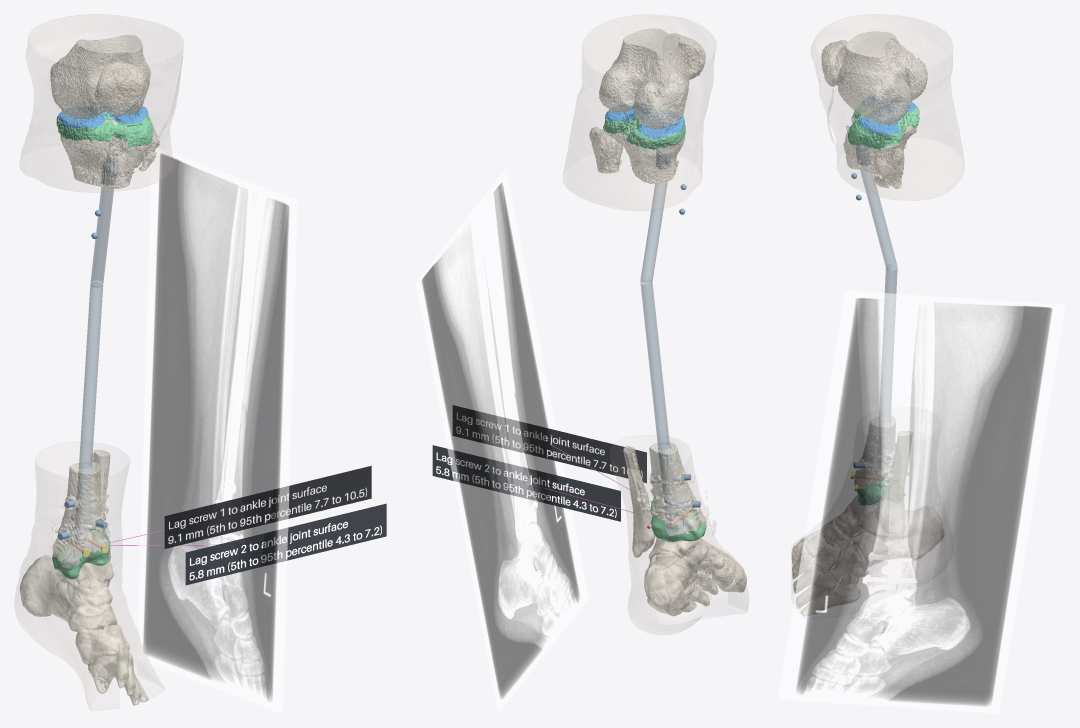
Rendered from 2022-04-22_084803_lat.glb.
The picture shows the model from 3 angles, left to right: view 1: azimuth 30°, elevation 25°; view 2: azimuth 150°, elevation 25°; view 3: azimuth 270°, elevation 25°; orthographic projection. The views are drawn at different scales.
Parts seen in each view (by area): view 1: radiograph, skin, implant_8, tibia, implant_16, tarsal, femur, nail_modelled, patella, metatarsal, capsule_band_knee, nail (+3 smaller); view 2: radiograph, skin, femur, implant_17, implant_9, tibia, tarsal, nail_modelled, fibula, articular_surface_knee, metatarsal, capsule_band_knee (+3 smaller); view 3: radiograph, skin, tarsal, femur, fibula, tibia, nail_modelled, metatarsal, capsule_band_knee, articular_surface_knee, patella, nail (+1 smaller).
Boxes of the visible parts, box(x1,y1,x2,y2) form: radiograph: box(137, 147, 297, 713); skin: box(15, 14, 183, 708); implant_8: box(164, 465, 371, 548); tibia: box(52, 115, 150, 579); implant_16: box(185, 503, 386, 585); tarsal: box(19, 554, 129, 664); femur: box(50, 34, 150, 119); nail_modelled: box(79, 187, 113, 469); patella: box(94, 61, 146, 116); metatarsal: box(88, 647, 148, 705); capsule_band_knee: box(56, 106, 152, 147); nail: box(74, 155, 118, 547); radiograph: box(415, 168, 588, 713); skin: box(563, 14, 748, 634); femur: box(599, 28, 689, 129); implant_17: box(432, 445, 620, 521); implant_9: box(453, 405, 646, 483); tibia: box(603, 115, 706, 540); tarsal: box(644, 520, 735, 613); nail_modelled: box(640, 182, 670, 450); fibula: box(589, 127, 655, 557); articular_surface_knee: box(605, 103, 684, 139); metatarsal: box(668, 557, 746, 616); capsule_band_knee: box(603, 109, 685, 149); radiograph: box(778, 290, 1065, 713); skin: box(792, 14, 964, 594); tarsal: box(796, 495, 944, 584); femur: box(836, 31, 927, 125); fibula: box(873, 147, 912, 535); tibia: box(843, 116, 918, 505); nail_modelled: box(860, 169, 897, 422); metatarsal: box(791, 544, 860, 615); capsule_band_knee: box(848, 103, 919, 149); articular_surface_knee: box(857, 95, 916, 134); patella: box(821, 40, 847, 86); nail: box(856, 145, 890, 482).
Size of the model in its own units: 0.2864 by 0.5899 by 0.2438.
Materials: 15 (3 with a texture image).
